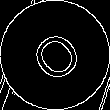O_SE: (22, 22, 88, 88)
